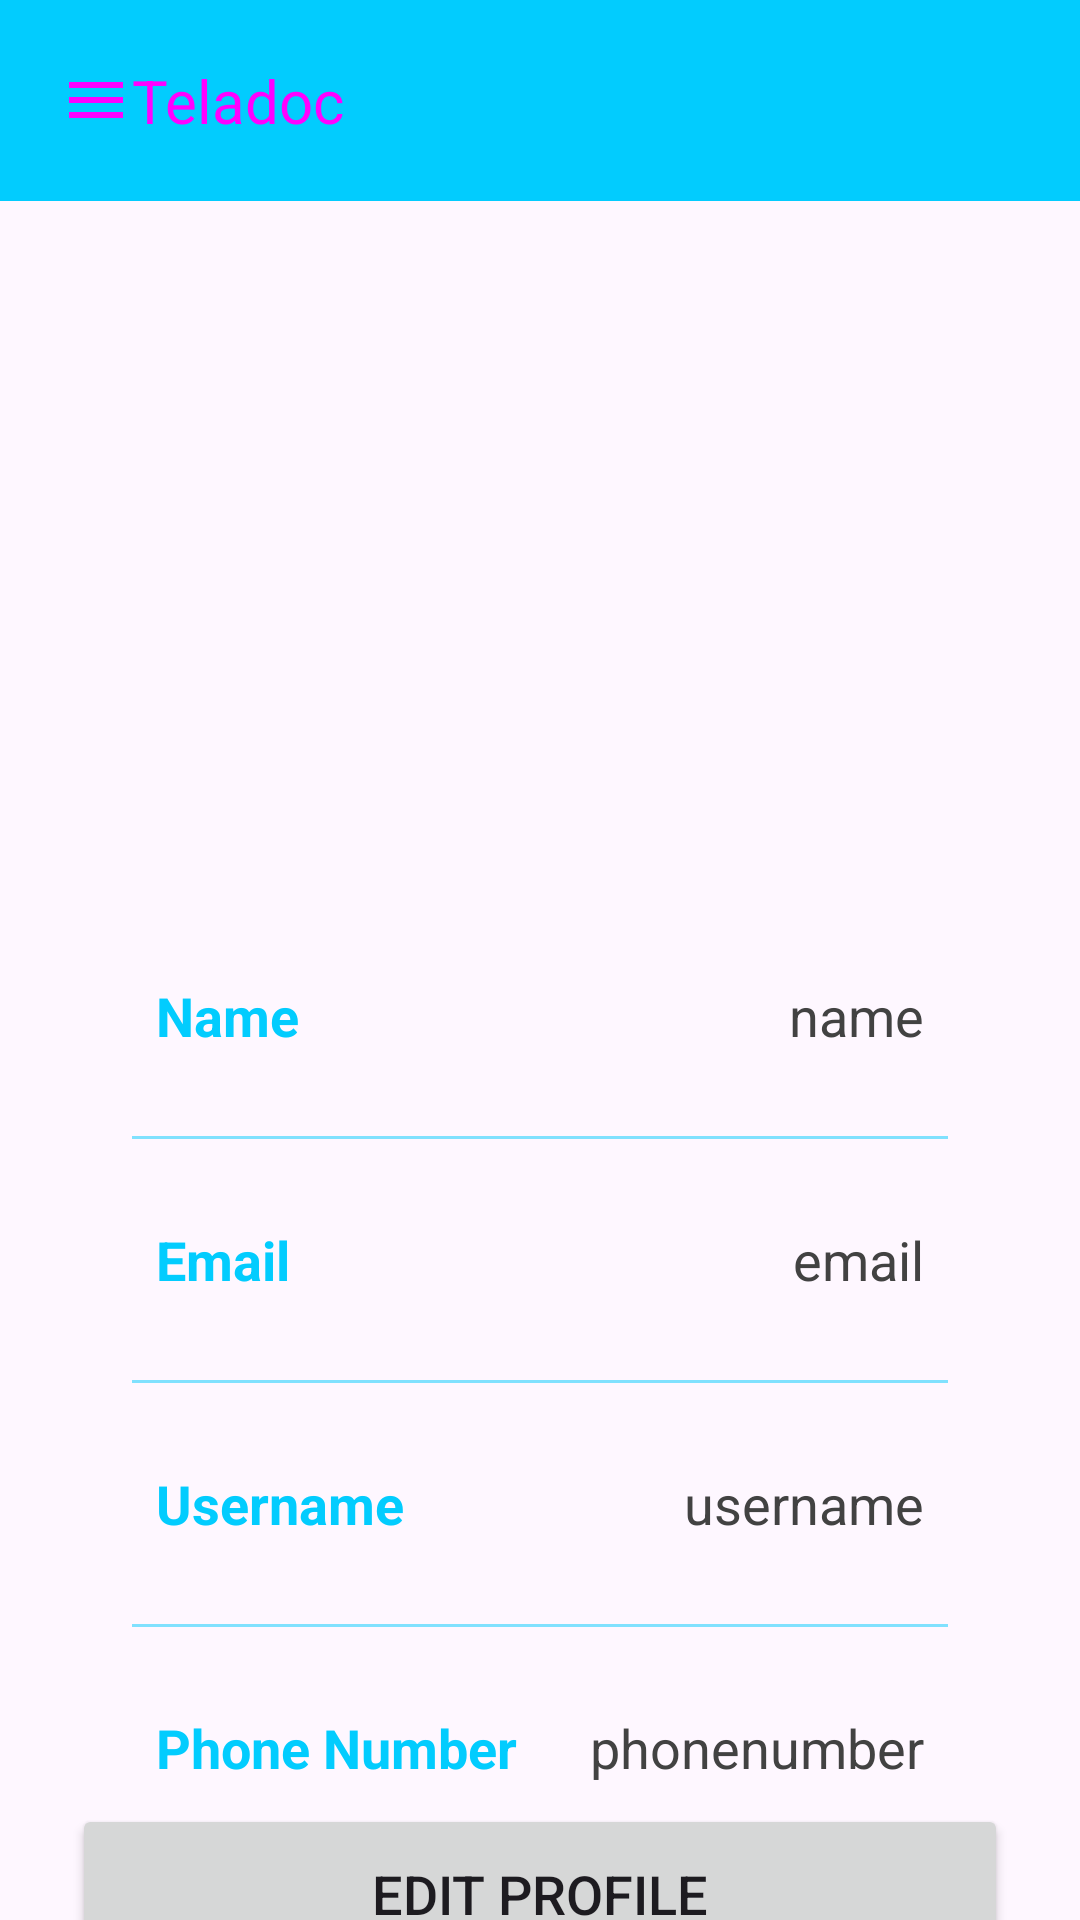

Locate icon controls on the screen. Image size 1080 × 1920, boxes as [x1,y1,x2,y2].
menu: [69,82,123,118]
